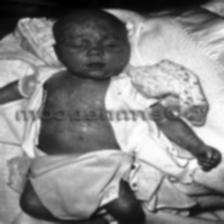Non-Cancerous Skin Condition: (63, 19, 117, 39), (66, 94, 99, 107)
